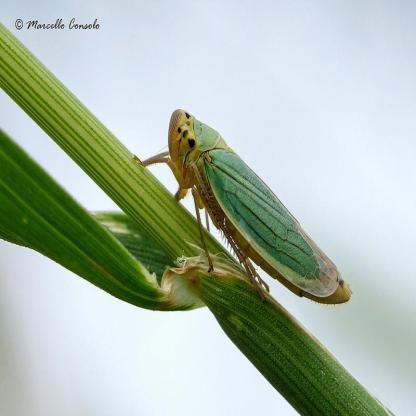Green-Leafhopper: (138, 95, 349, 325)
